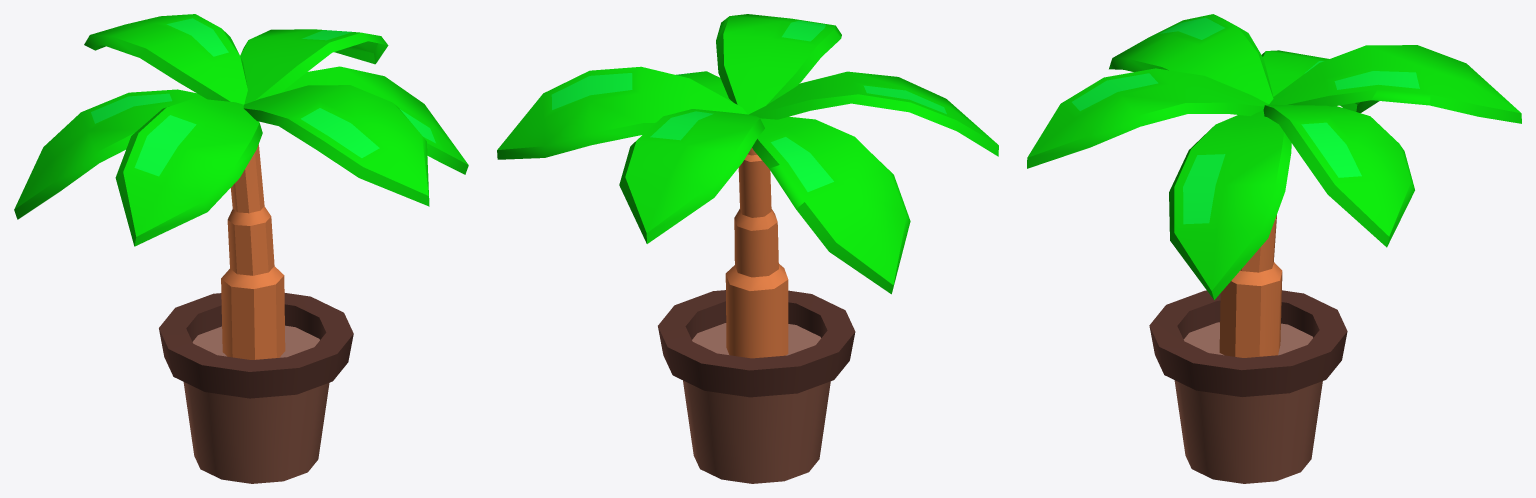
Rendered from Plant.fbx.
3 renders of one model, left to right at view 1: azimuth 30°, elevation 25°; view 2: azimuth 150°, elevation 25°; view 3: azimuth 270°, elevation 25°, orthographic.
Visible parts, largest first — view 1: Plant; view 2: Plant; view 3: Plant.
Part boxes in pixels (x1=…): Plant: x1=14, y1=14, x2=468, y2=483; Plant: x1=497, y1=14, x2=998, y2=483; Plant: x1=1027, y1=14, x2=1521, y2=483.
Size of the model in its own units: 9.76 by 9.24 by 10.74.
